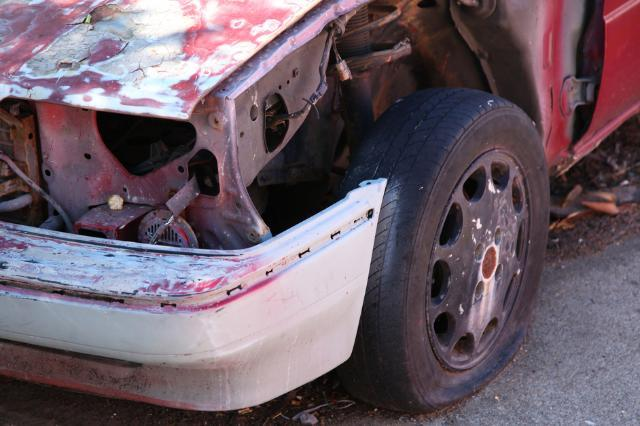Bumper: (0, 115, 396, 426)
Fender: (204, 0, 587, 200)
